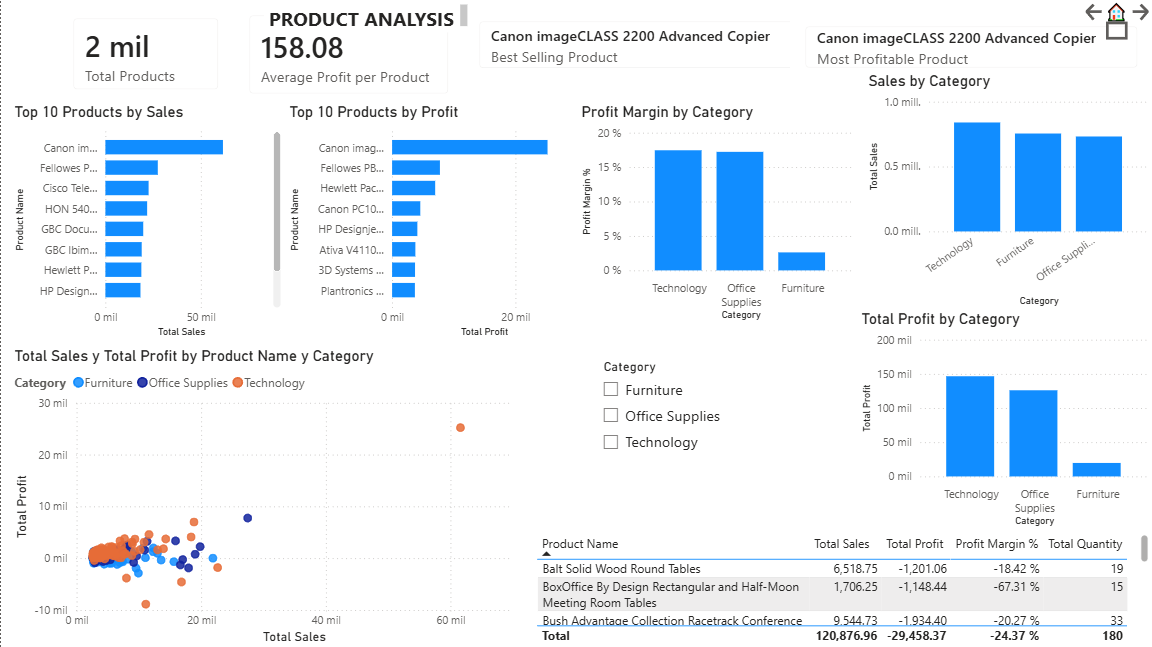

This screenshot's page, from the dashboard's own definition file:
{"tool":"powerbi","page":{"name":"Product Analysis","canvas":[1280,720],"ordinal":4},"visuals":[{"type":"cardVisual","fields":{"Data":["Orders.Total Products"]},"box":[63.2,2.9,195.5,113.8],"z":0},{"type":"cardVisual","fields":{"Data":["Orders.Best Selling Product"]},"box":[514.3,6.4,390.8,86.3],"z":1000},{"type":"cardVisual","fields":{"Data":["Orders.Most Profitable Product"]},"box":[876.4,11.7,403.6,80.9],"z":2000},{"type":"cardVisual","fields":{"Data":["Orders.Average Profit per Product"]},"box":[258.8,0,255.6,121.4],"z":3000},{"type":"barChart","title":"Top 10 Products by Sales","fields":{"Category":["Orders.Product Name"],"Y":["Orders.Total Sales"]},"box":[9.6,113.9,305.6,265.2],"z":4000},{"type":"barChart","title":"Top 10 Products by Profit","fields":{"Category":["Orders.Product Name"],"Y":["Orders.Total Profit"]},"box":[315.2,113.9,354.6,265.2],"z":5000},{"type":"clusteredColumnChart","title":"Sales by Category","fields":{"Category":["Orders.Category"],"Y":["Orders.Total Sales"]},"box":[958.4,79.9,321.6,265.2],"z":6000},{"type":"clusteredColumnChart","title":"Total Profit by Category","fields":{"Y":["Orders.Total Profit"],"Category":["Orders.Category"]},"box":[950.9,344,329.1,244.9],"z":7000},{"type":"clusteredColumnChart","title":"Profit Margin by Category","fields":{"Y":["Orders.Profit Margin %"],"Category":["Orders.Category"]},"box":[640,113.9,310.9,246],"z":8000},{"type":"scatterChart","title":"Total Sales y Total Profit by Product Name y Category","fields":{"X":["Orders.Total Sales"],"Y":["Orders.Total Profit"],"Category":["Orders.Product Name"],"Series":["Orders.Category"]},"box":[9.7,385.2,580.7,335.6],"z":9000},{"type":"slicer","fields":{"Values":["Orders.Category"]},"box":[656.5,393.9,179.9,144.9],"z":10000},{"type":"tableEx","fields":{"Values":["Orders.Product Name","Orders.Total Sales","Orders.Total Profit","Orders.Profit Margin %","Orders.Total Quantity"]},"box":[590,588.9,690,131],"z":11000},{"type":"actionButton","box":[1201,0,27,27],"z":12000},{"type":"actionButton","title":"🏠","box":[1228,0,24,44],"z":13000},{"type":"actionButton","box":[1252,0,28,27],"z":14000}]}

Visuals, with their boxes in screenshot pixels (x1, y1, x2, y2), scaled from the page's 1280x720 canvas onto the 1152x647 screenshot:
cardVisual - Orders.Total Products: BBox(57, 3, 233, 105)
cardVisual - Orders.Best Selling Product: BBox(463, 6, 815, 83)
cardVisual - Orders.Most Profitable Product: BBox(789, 11, 1151, 83)
cardVisual - Orders.Average Profit per Product: BBox(233, 0, 463, 109)
"Top 10 Products by Sales" barChart: BBox(9, 102, 284, 341)
"Top 10 Products by Profit" barChart: BBox(284, 102, 603, 341)
"Sales by Category" clusteredColumnChart: BBox(863, 72, 1151, 310)
"Total Profit by Category" clusteredColumnChart: BBox(856, 309, 1151, 529)
"Profit Margin by Category" clusteredColumnChart: BBox(576, 102, 856, 323)
"Total Sales y Total Profit by Product Name y Category" scatterChart: BBox(9, 346, 531, 646)
slicer - Orders.Category: BBox(591, 354, 753, 484)
tableEx - Orders.Product Name x Orders.Total Sales: BBox(531, 529, 1151, 646)
actionButton: BBox(1081, 0, 1105, 24)
"🏠" actionButton: BBox(1105, 0, 1127, 40)
actionButton: BBox(1127, 0, 1151, 24)
